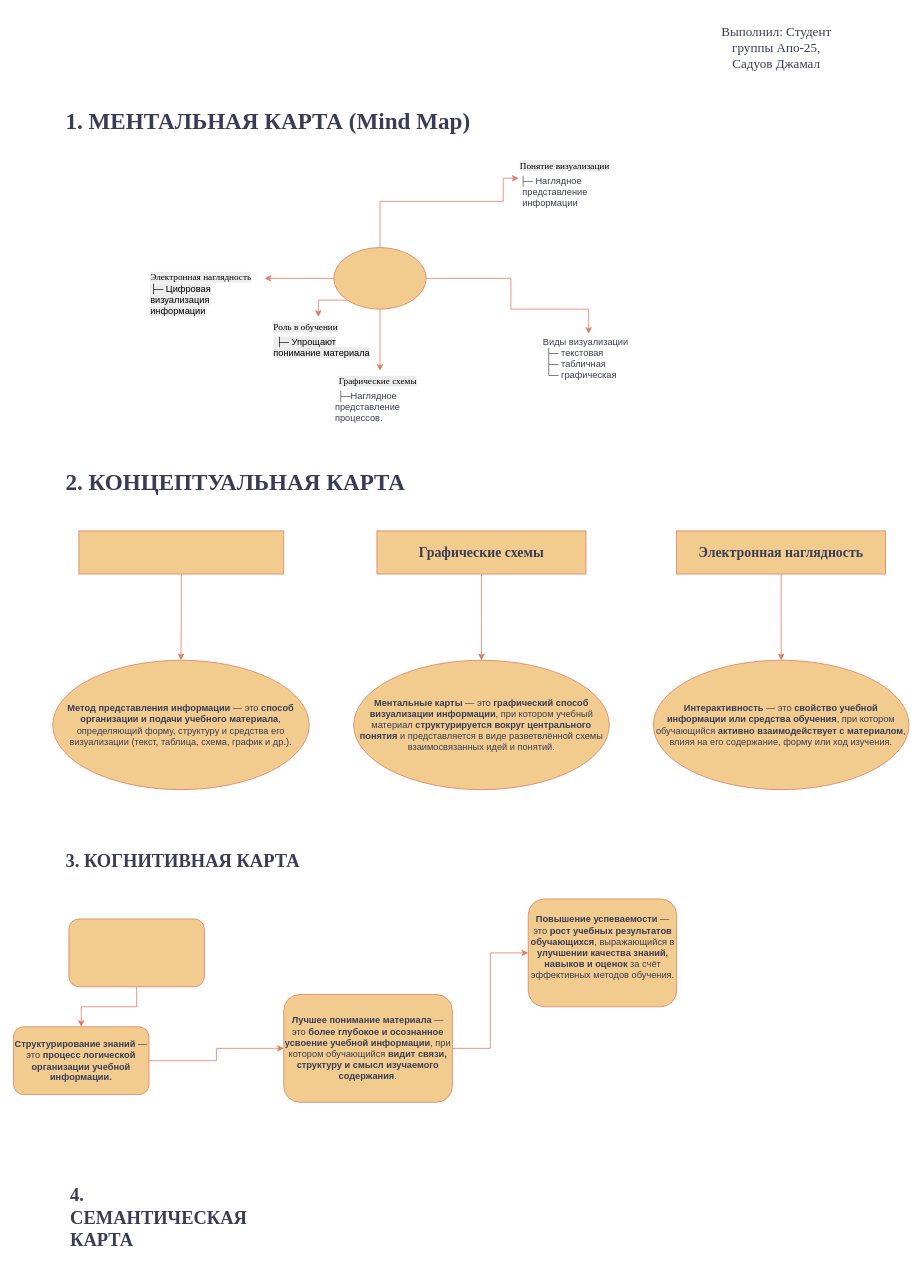
Some shapes in this 922 by 1277 pixel diagram are drawn without their labels. Here are the shapes that lost their labels. From the top down, the centre of each, then its label:
At point (379, 278): "Визуализация учебной информации".
At point (181, 552): "Визуализация".
At point (136, 952): "Использование визуализации — это целенаправленное применение визуальных средств".
